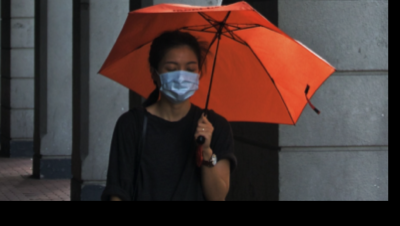with_mask: (157, 58, 201, 102)
